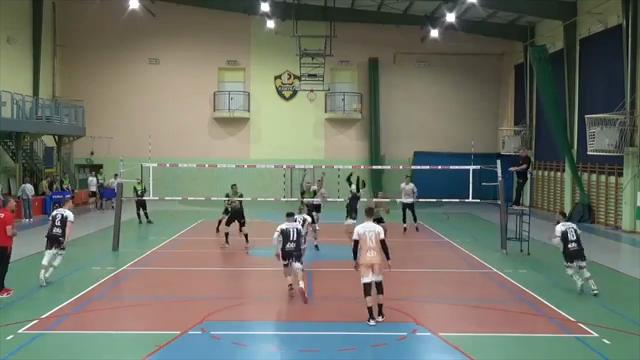alzata: (336, 161, 367, 247)
